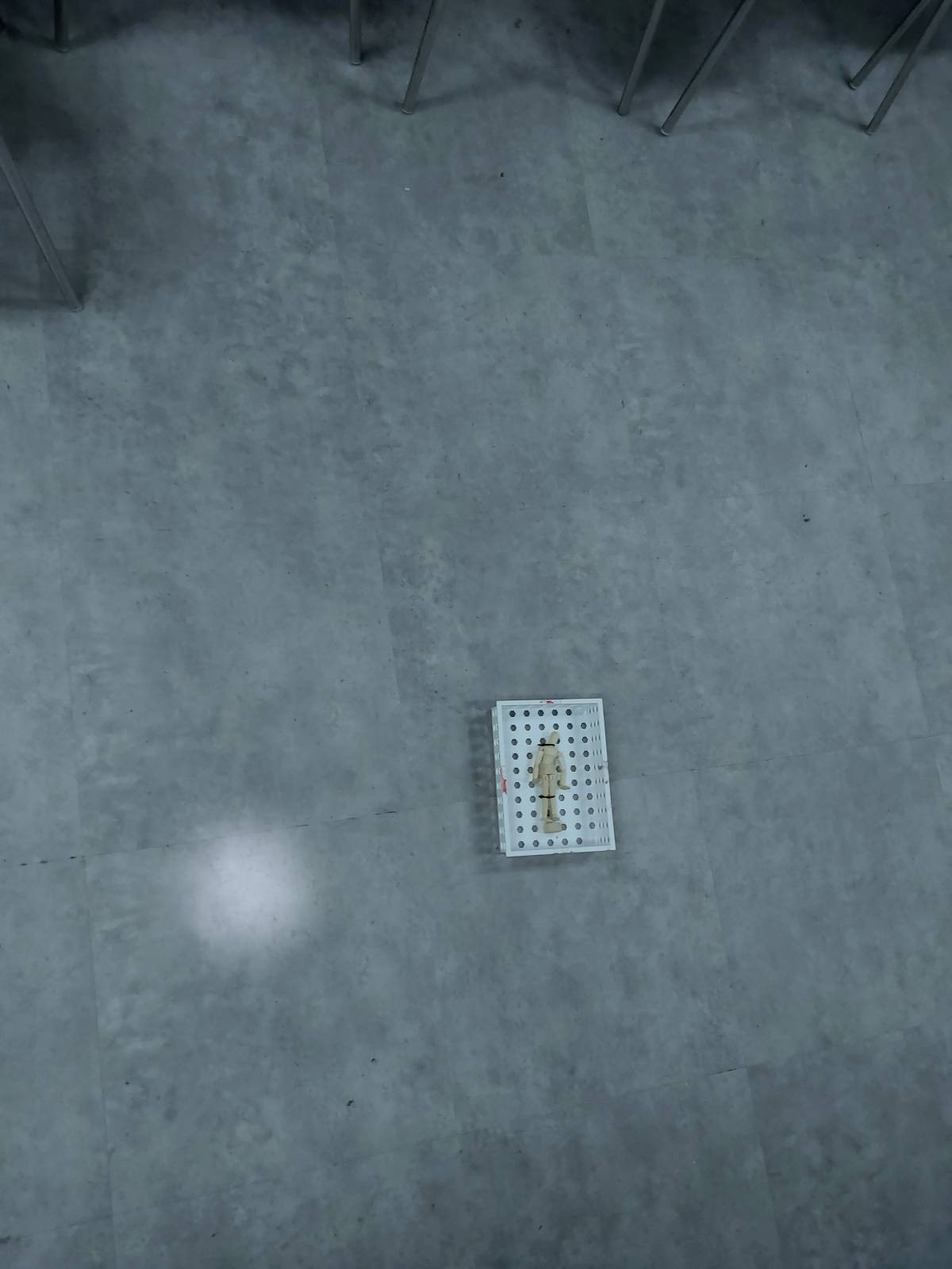basket: (486, 696, 620, 860)
mannequin: (530, 730, 573, 835)
